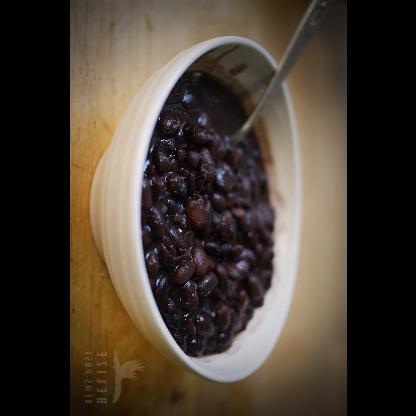black beans: (141, 70, 275, 358)
